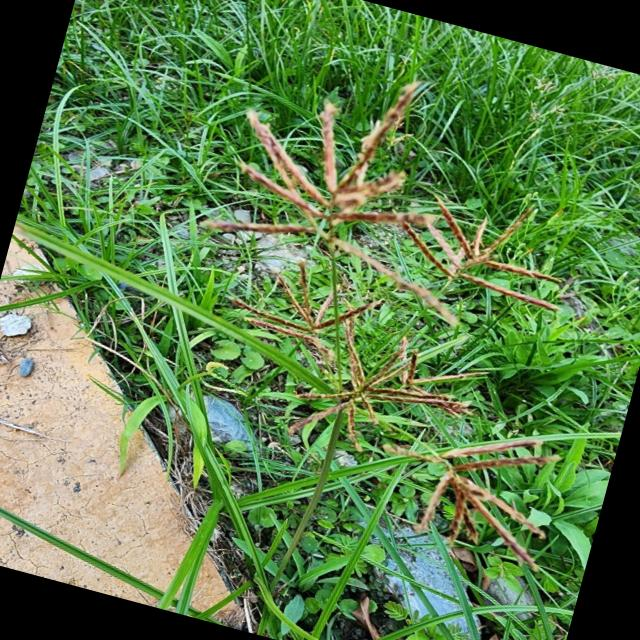cyperus: (146, 35, 606, 492), (194, 36, 438, 280), (208, 233, 482, 450), (379, 406, 578, 584), (411, 188, 594, 334)
